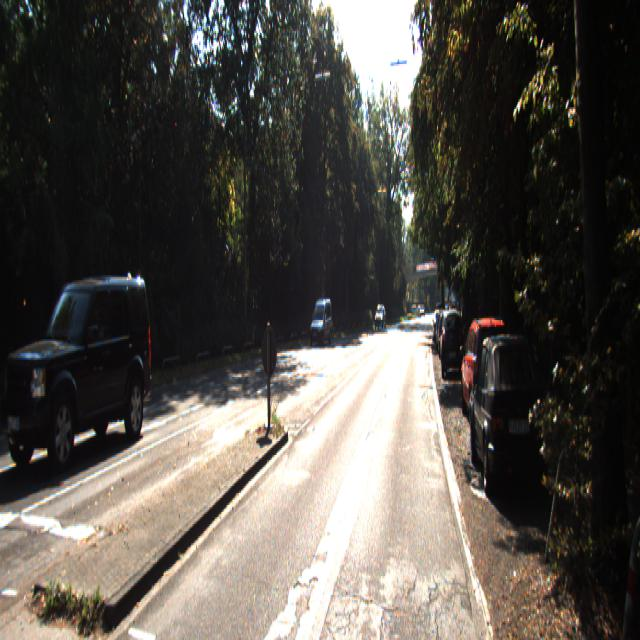Car: (0, 262, 156, 477), (473, 328, 558, 511), (460, 311, 518, 438), (441, 308, 463, 377), (308, 296, 334, 348)
